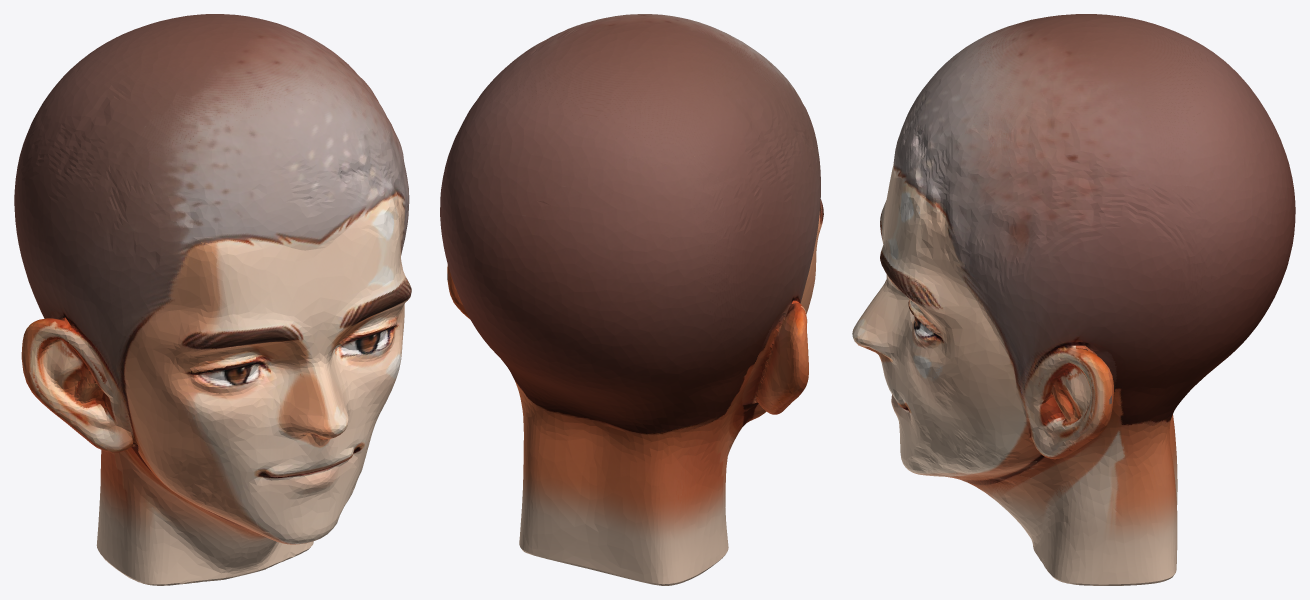
File: side_keiki_repaired_atlas.glb
The picture shows the model from 3 angles, left to right: view 1: azimuth 30°, elevation 25°; view 2: azimuth 150°, elevation 25°; view 3: azimuth 270°, elevation 25°; orthographic projection. The views are drawn at different scales.
Visible parts, largest first — view 1: temp_mesh.ply; view 2: temp_mesh.ply; view 3: temp_mesh.ply.
Part boxes in pixels (x1,y1,x2,y2): temp_mesh.ply: (14, 14, 411, 585); temp_mesh.ply: (440, 14, 823, 585); temp_mesh.ply: (852, 14, 1295, 585).
Bounding box in the file's own units: 0.9004 × 1.21 × 0.9501.
1 material, 1 textured.
